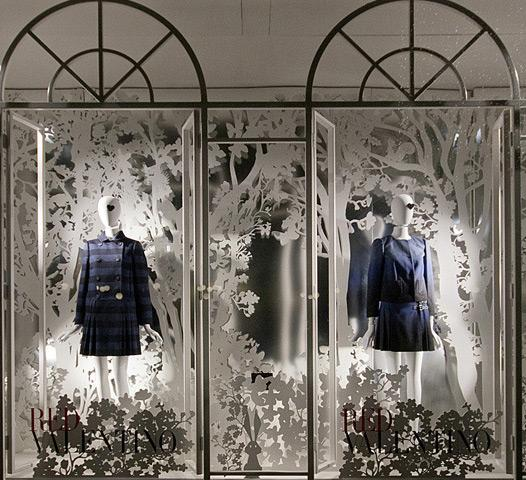person-like: (360, 187, 445, 443), (64, 188, 161, 408)
